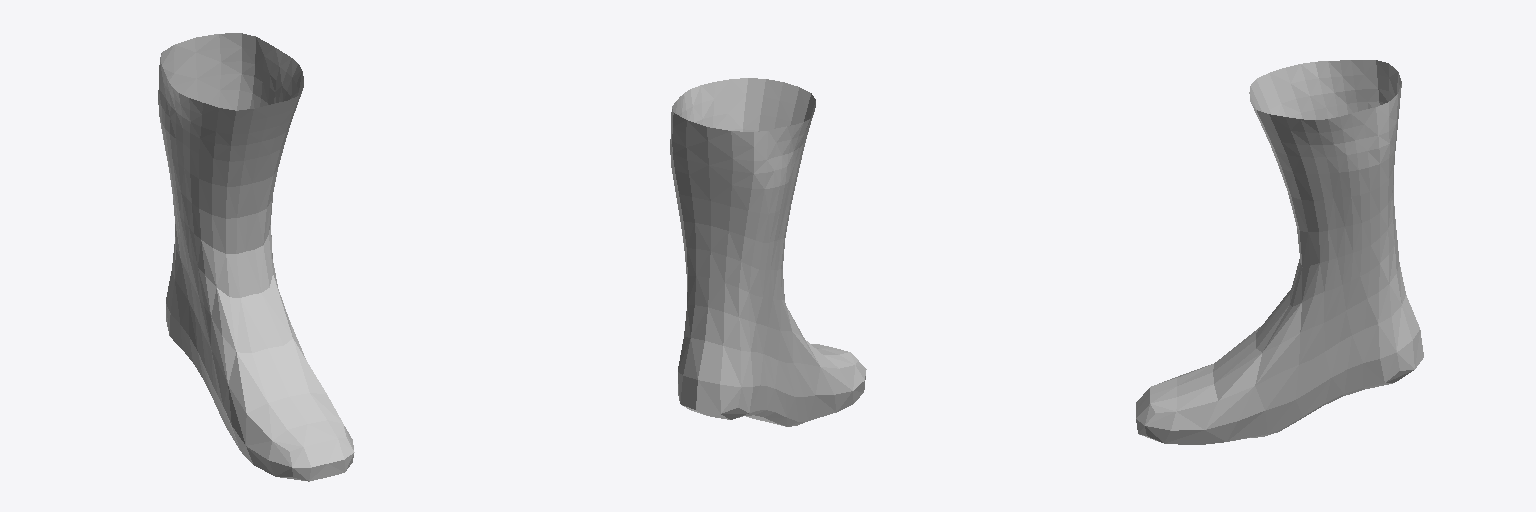
File: underarmour_sock.obj
The picture shows the model from 3 angles: view 1: azimuth 30°, elevation 25°; view 2: azimuth 150°, elevation 25°; view 3: azimuth 270°, elevation 25°; orthographic projection.
Size of the model in its own units: 0.1082 by 0.299 by 0.225.